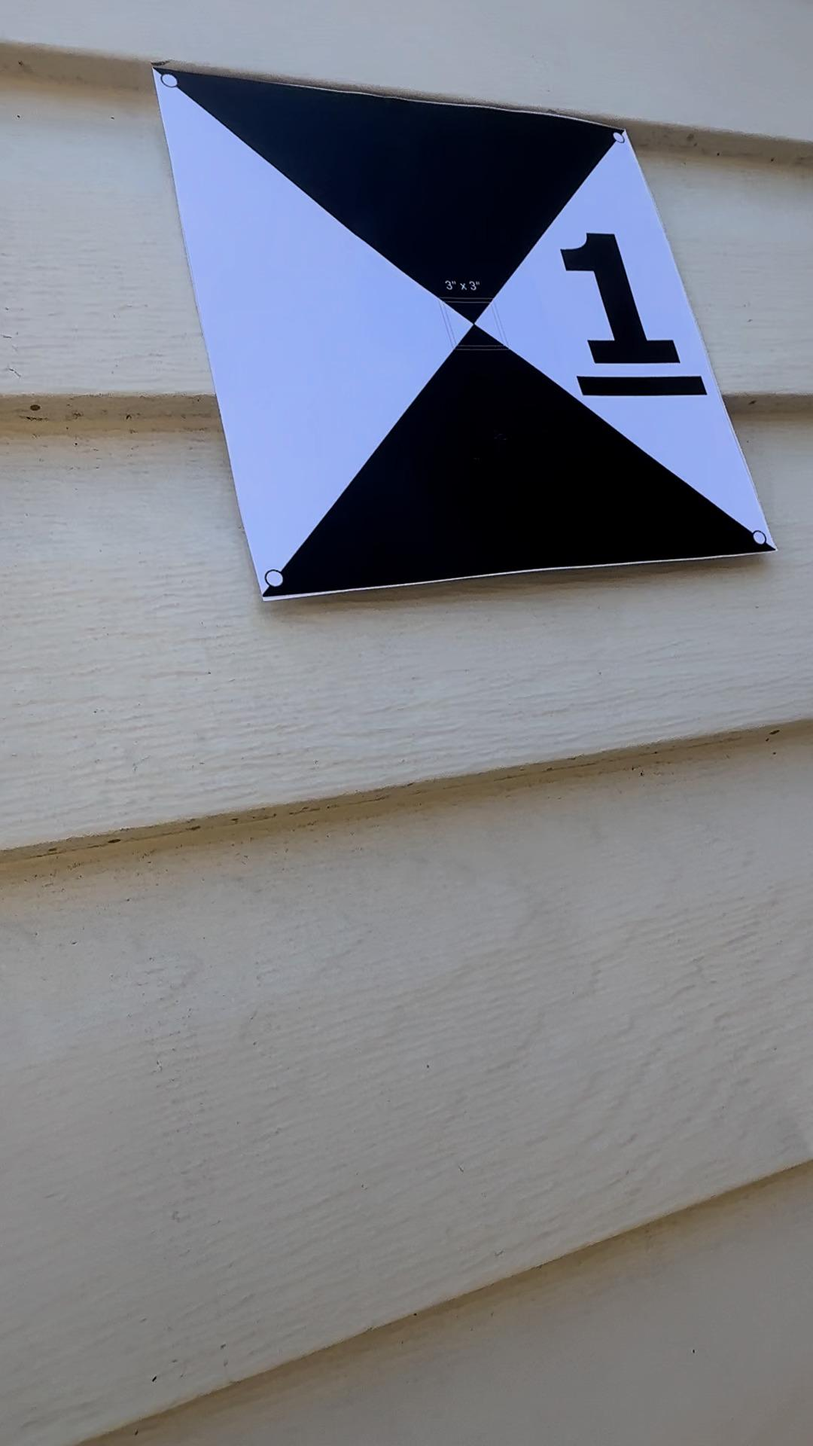target1: (137, 53, 807, 625)
